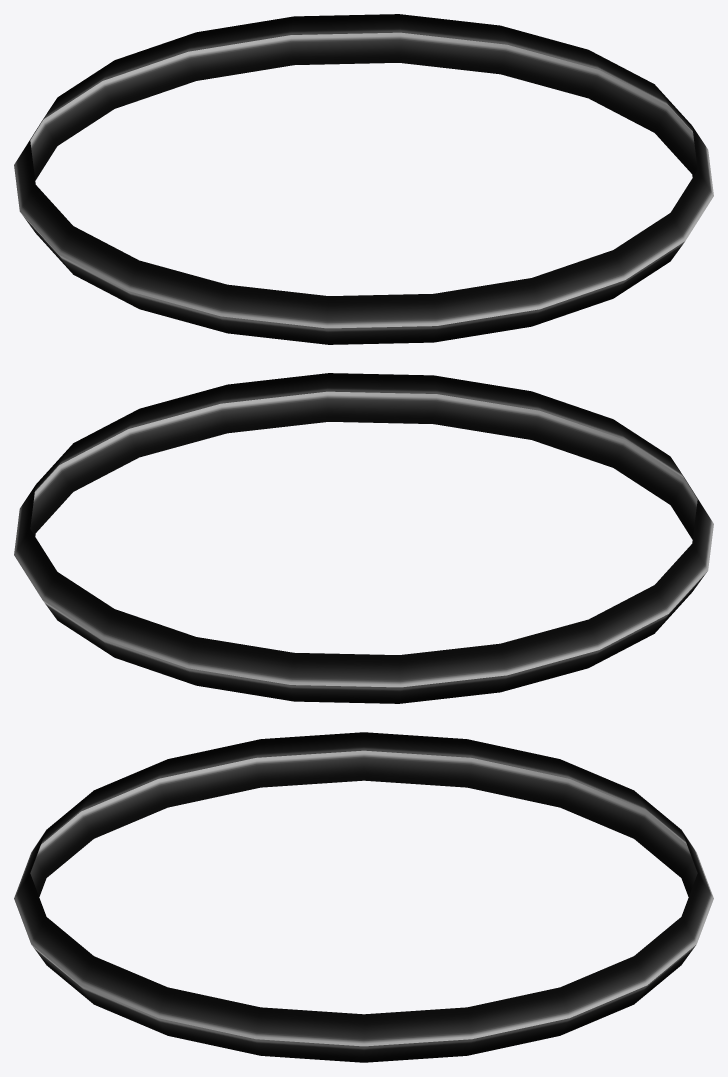
Rendered from ts_tzgow.FBX.
3 views of the same model, one above another, from view 1: azimuth 30°, elevation 25°; view 2: azimuth 150°, elevation 25°; view 3: azimuth 270°, elevation 25° (orthographic).
Parts seen in each view (by area): view 1: ts_tzgow; view 2: ts_tzgow; view 3: ts_tzgow.
Boxes of the visible parts, bbox=[...] form: ts_tzgow: bbox=[14, 14, 713, 344]; ts_tzgow: bbox=[14, 373, 713, 703]; ts_tzgow: bbox=[14, 732, 713, 1062].
Bounding box in the file's own units: 2.19 × 0.1677 × 2.19.
